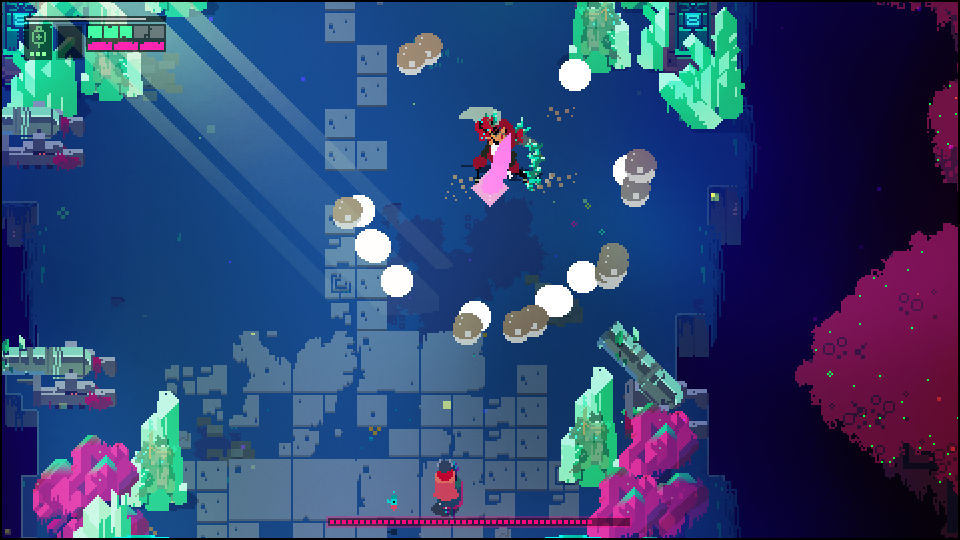hanged_man: (457, 103, 542, 189)
player: (428, 453, 468, 516)
